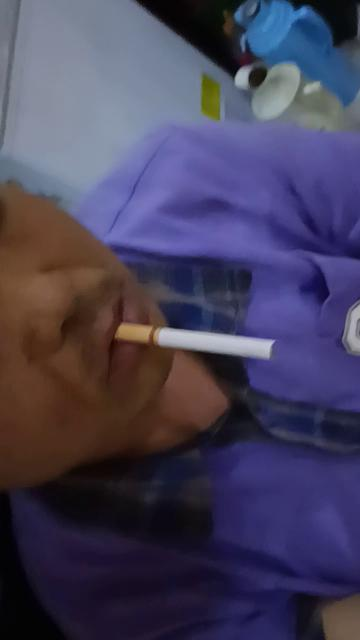Cigarette: (114, 322, 276, 362)
